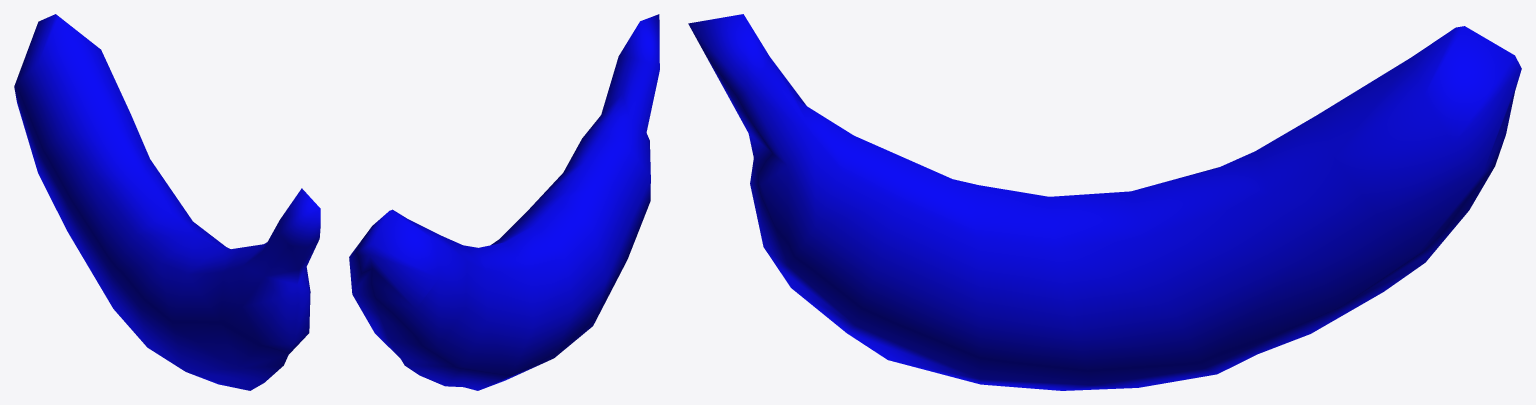
Rendered from banana1_0.dae.
The picture shows the model from 3 angles, left to right: view 1: azimuth 30°, elevation 25°; view 2: azimuth 150°, elevation 25°; view 3: azimuth 270°, elevation 25°; orthographic projection. The views are drawn at different scales.
Visible parts, largest first — view 1: banana1; view 2: banana1; view 3: banana1.
Part boxes in pixels (bbox=[...]): banana1: bbox=[14, 14, 320, 390]; banana1: bbox=[349, 14, 659, 390]; banana1: bbox=[688, 14, 1521, 390].
Size of the model in its own units: 0.0557 by 0.2948 by 0.1476.
